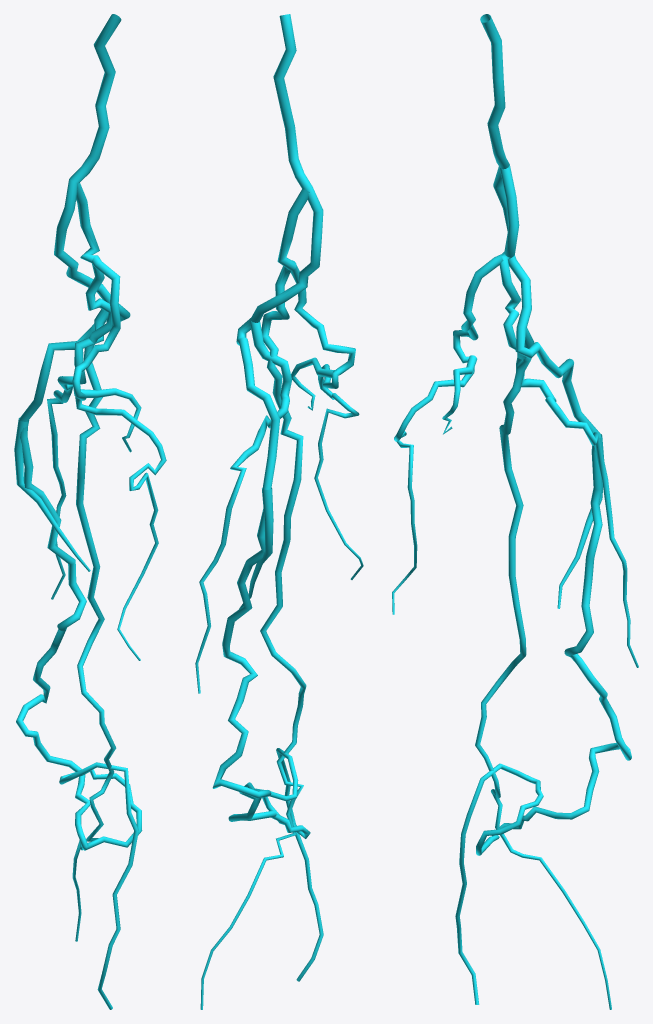
Rendered from soloThunder.obj.
The picture shows the model from 3 angles, left to right: view 1: azimuth 30°, elevation 25°; view 2: azimuth 150°, elevation 25°; view 3: azimuth 270°, elevation 25°; orthographic projection. The views are drawn at different scales.
Visible parts, largest first — view 1: IVY_Curve.001_IVY.001; view 2: IVY_Curve.001_IVY.001; view 3: IVY_Curve.001_IVY.001.
Part boxes in pixels (left/top/right/bottom): IVY_Curve.001_IVY.001: left=14, top=14, right=166, bottom=1009; IVY_Curve.001_IVY.001: left=195, top=14, right=363, bottom=1009; IVY_Curve.001_IVY.001: left=392, top=14, right=638, bottom=1009.
Size of the model in its own units: 2.78 by 29.81 by 6.71.
1 material, 1 textured.
